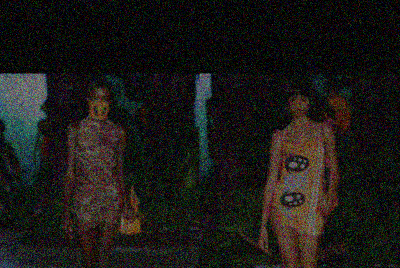with_mask: (88, 94, 111, 117)
without_mask: (288, 94, 310, 117)
